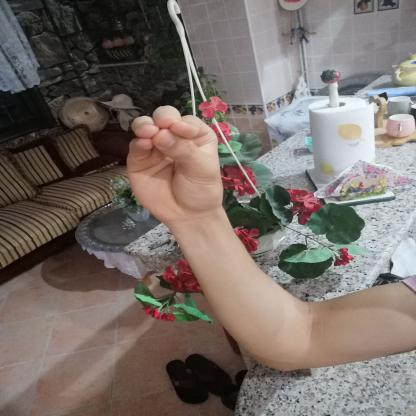HA: (108, 95, 243, 232)
